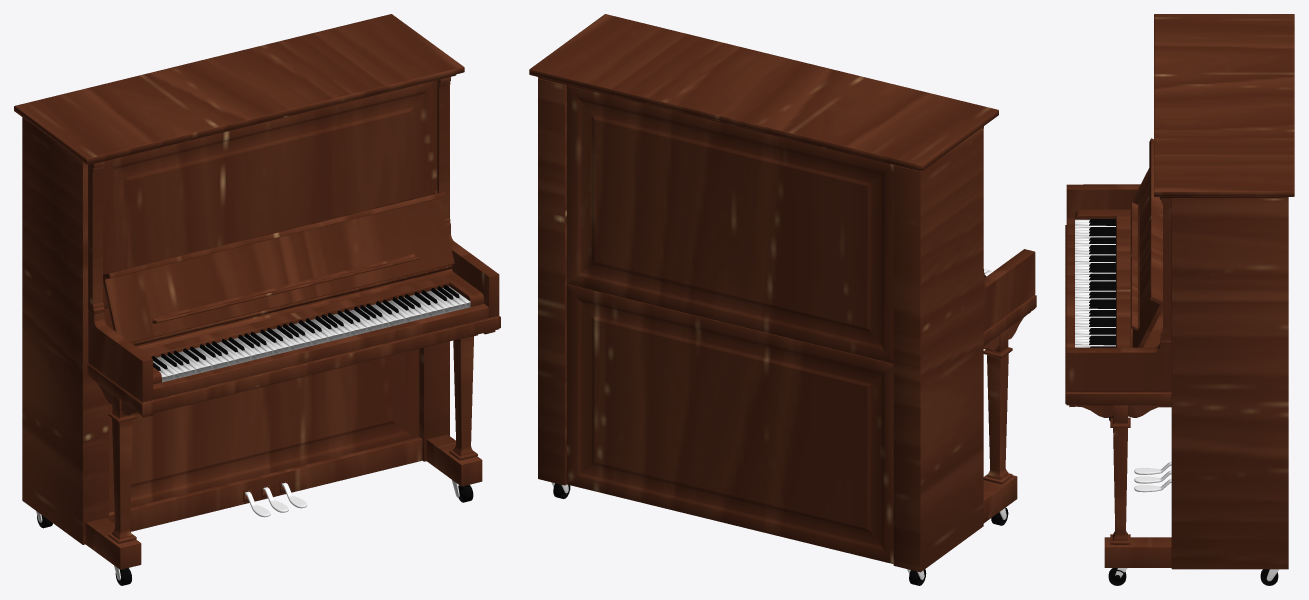
File: Piano.fbx
3 views of the same model, side by side, from view 1: azimuth 30°, elevation 25°; view 2: azimuth 150°, elevation 25°; view 3: azimuth 270°, elevation 25° (orthographic). The views are drawn at different scales.
Parts seen in each view (by area): view 1: Piano 31-05_246, Piano 31-05_266, Piano 31-05_262, Piano 31-05_245, Piano 31-05_272, Piano 31-05_275, Piano 31-05_276, Piano 31-05_277, Piano 31-05_273, Piano 31-05_278, Piano 31-05_263, Piano 31-05_270 (+9 smaller); view 2: Piano 31-05_264, Piano 31-05_265, Piano 31-05_262, Piano 31-05_266, Piano 31-05_263, Piano 31-05_278, Piano 31-05_258, Piano 31-05_260, Piano 31-05_276; view 3: Piano 31-05_263, Piano 31-05_266, Piano 31-05_274, Piano 31-05_272, Piano 31-05_273, Piano 31-05_259, Piano 31-05_278, Piano 31-05_276, Piano 31-05_254, Piano 31-05_267, Piano 31-05_277, Piano 31-05_268 (+3 smaller).
Boxes of the visible parts, <box> form: Piano 31-05_246: <box>103,80,437,308</box>; Piano 31-05_266: <box>14,14,464,164</box>; Piano 31-05_262: <box>22,117,108,544</box>; Piano 31-05_245: <box>109,349,419,512</box>; Piano 31-05_272: <box>103,192,454,342</box>; Piano 31-05_275: <box>109,437,422,531</box>; Piano 31-05_276: <box>87,315,500,415</box>; Piano 31-05_277: <box>153,304,488,399</box>; Piano 31-05_273: <box>141,273,484,384</box>; Piano 31-05_278: <box>88,311,152,402</box>; Piano 31-05_263: <box>419,84,449,461</box>; Piano 31-05_270: <box>88,161,104,314</box>; Piano 31-05_264: <box>567,284,893,563</box>; Piano 31-05_265: <box>567,85,893,363</box>; Piano 31-05_262: <box>893,126,983,572</box>; Piano 31-05_266: <box>529,14,998,171</box>; Piano 31-05_263: <box>538,78,566,485</box>; Piano 31-05_278: <box>983,249,1035,331</box>; Piano 31-05_258: <box>987,353,1008,478</box>; Piano 31-05_260: <box>983,475,1017,523</box>; Piano 31-05_276: <box>983,295,1036,345</box>; Piano 31-05_263: <box>1171,198,1288,569</box>; Piano 31-05_266: <box>1154,14,1294,198</box>; Piano 31-05_274: <box>1066,341,1171,391</box>; Piano 31-05_272: <box>1132,138,1162,347</box>; Piano 31-05_273: <box>1075,209,1130,347</box>; Piano 31-05_259: <box>1104,537,1171,567</box>; Piano 31-05_278: <box>1066,184,1140,218</box>; Piano 31-05_276: <box>1065,225,1171,405</box>; Piano 31-05_254: <box>1113,428,1127,539</box>; Piano 31-05_267: <box>1160,198,1171,341</box>; Piano 31-05_277: <box>1066,218,1075,347</box>; Piano 31-05_268: <box>1131,202,1139,330</box>.
Bounding box in the file's own units: 144 × 151 × 78.35.
